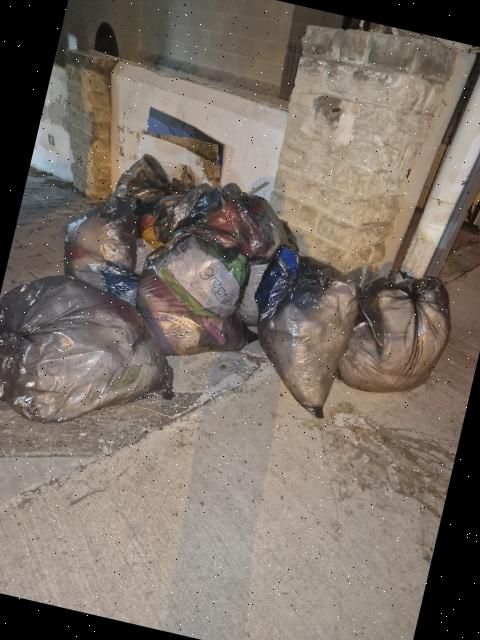Other: (137, 107, 222, 184)
Recyclable -Grey-: (0, 275, 173, 422), (171, 183, 297, 326), (254, 245, 358, 417), (136, 228, 250, 355), (337, 276, 450, 392), (63, 192, 152, 303), (104, 153, 175, 222), (152, 192, 188, 244)
